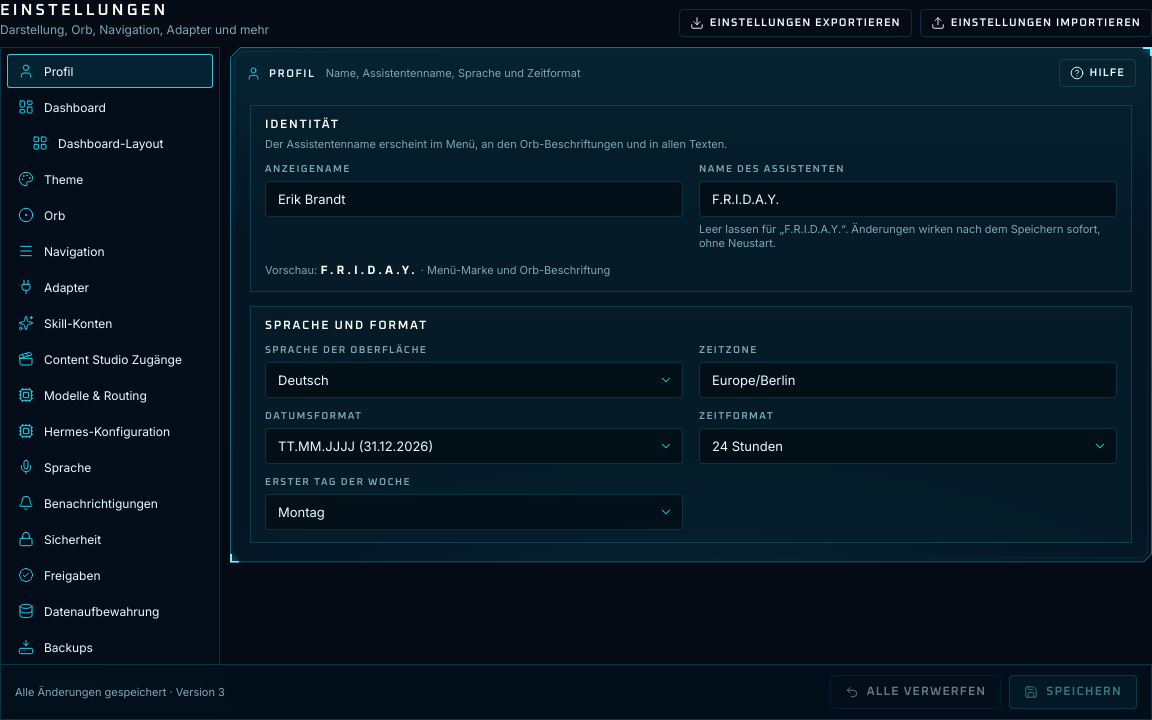
Test: leaving a dirty settings area › asks before discarding a draft and stays when the owner keeps editing
Replace the text in the field labelled "Anzeigename" with "Neuer Name" at [474, 198], box left=265, top=180, right=683, bottom=216
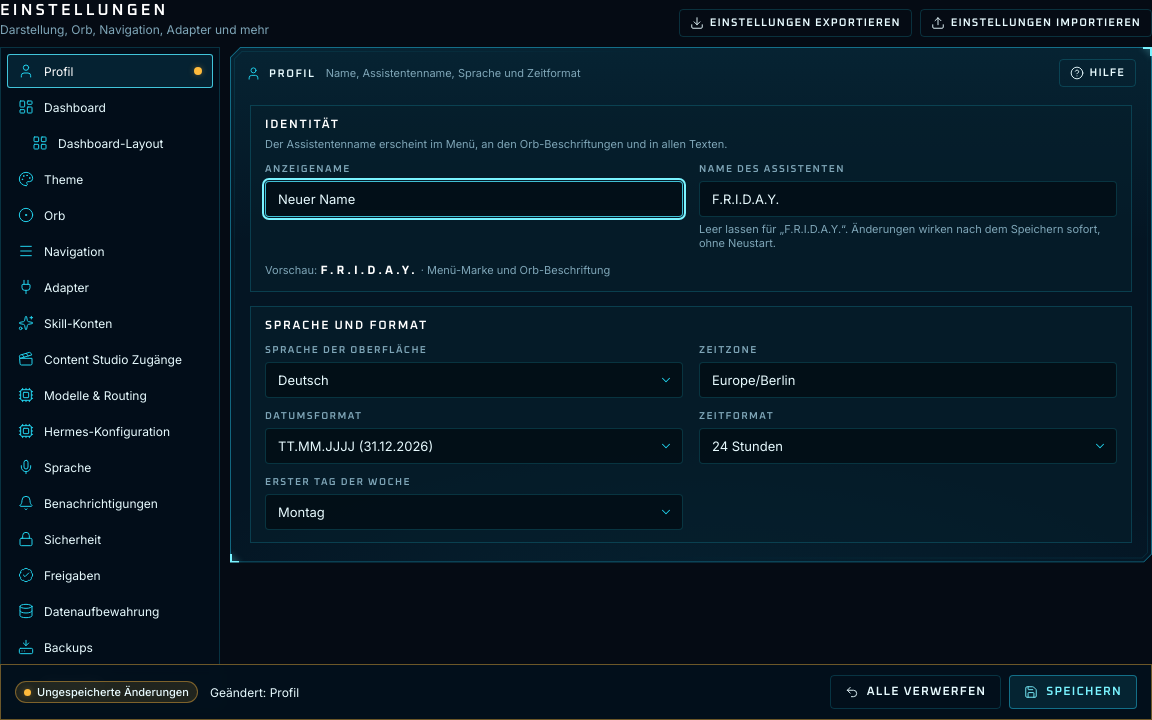
Expected: the message shows "Ungespeicherte", left=37, top=685, right=189, bottom=699
Click the button "Theme" at [110, 179], box left=7, top=162, right=213, bottom=196
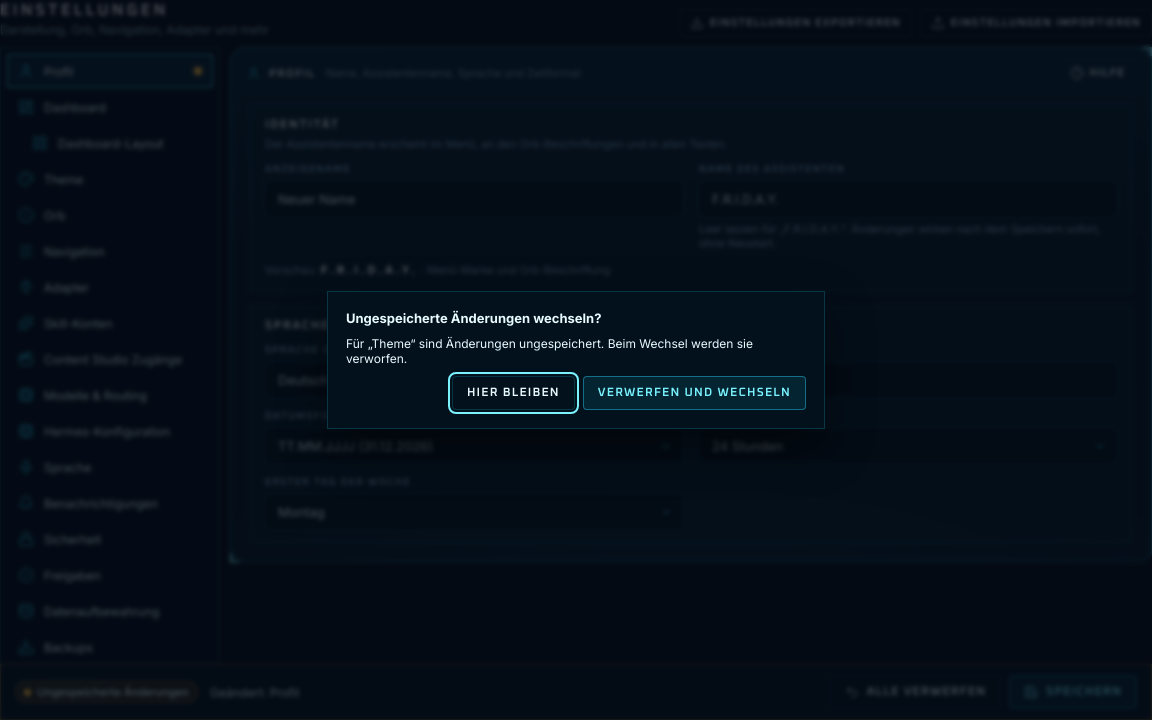
Expected: the dialog shows "Ungespeicherte Änderungen wechseln?", left=346, top=310, right=601, bottom=326
Click the button "Hier bleiben" at [513, 393], box left=452, top=376, right=575, bottom=410
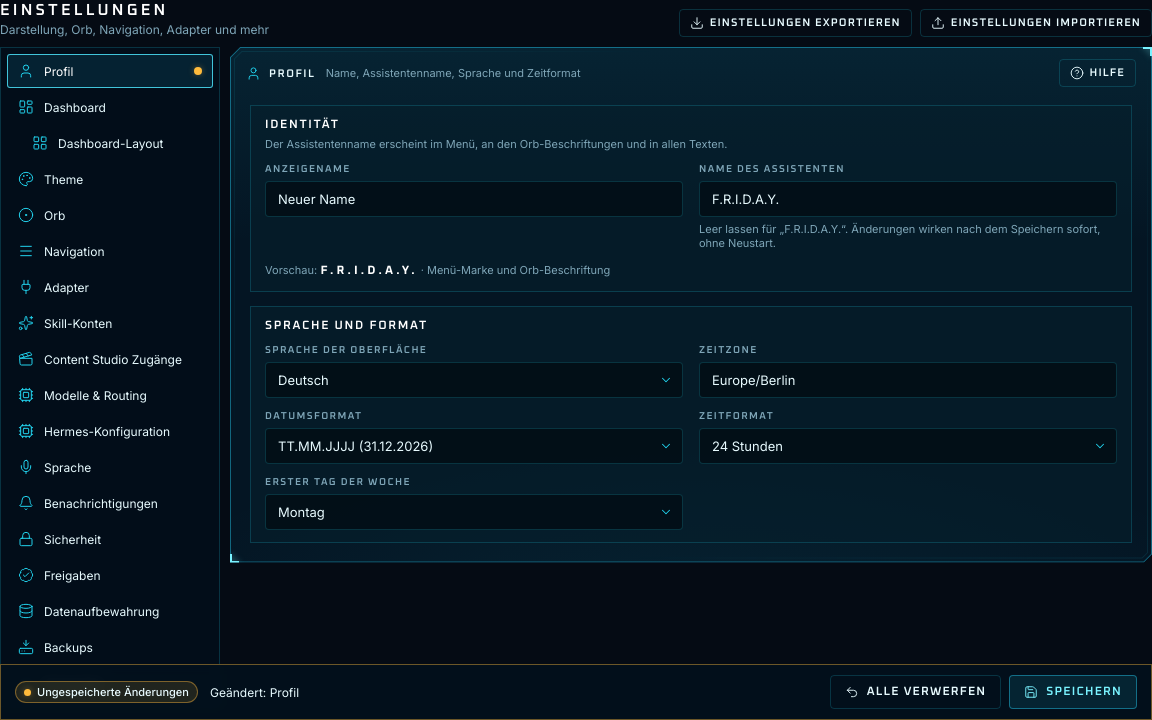
Expected: the dialog is gone
